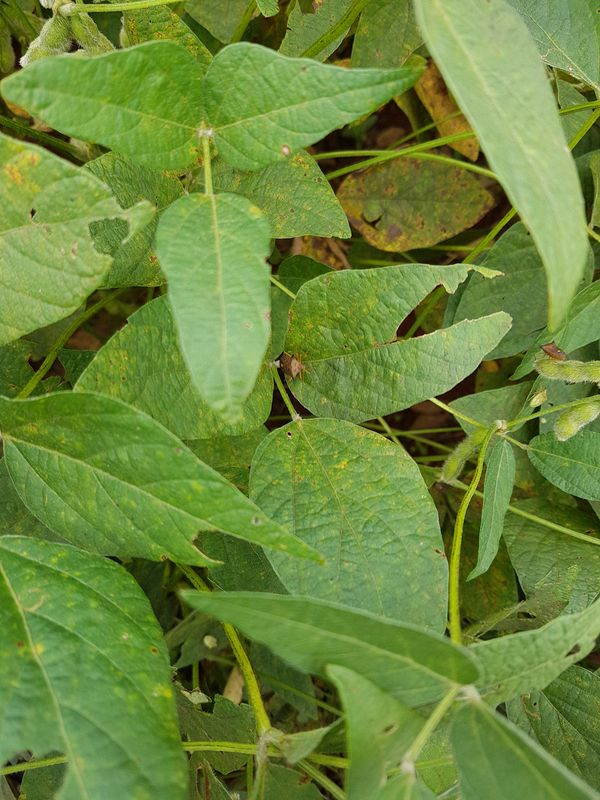Euschistus_heros_adulto: (272, 345, 315, 391), (534, 335, 571, 368)
Euschistus_heros_ninfa: (523, 381, 553, 410), (199, 632, 221, 654)
